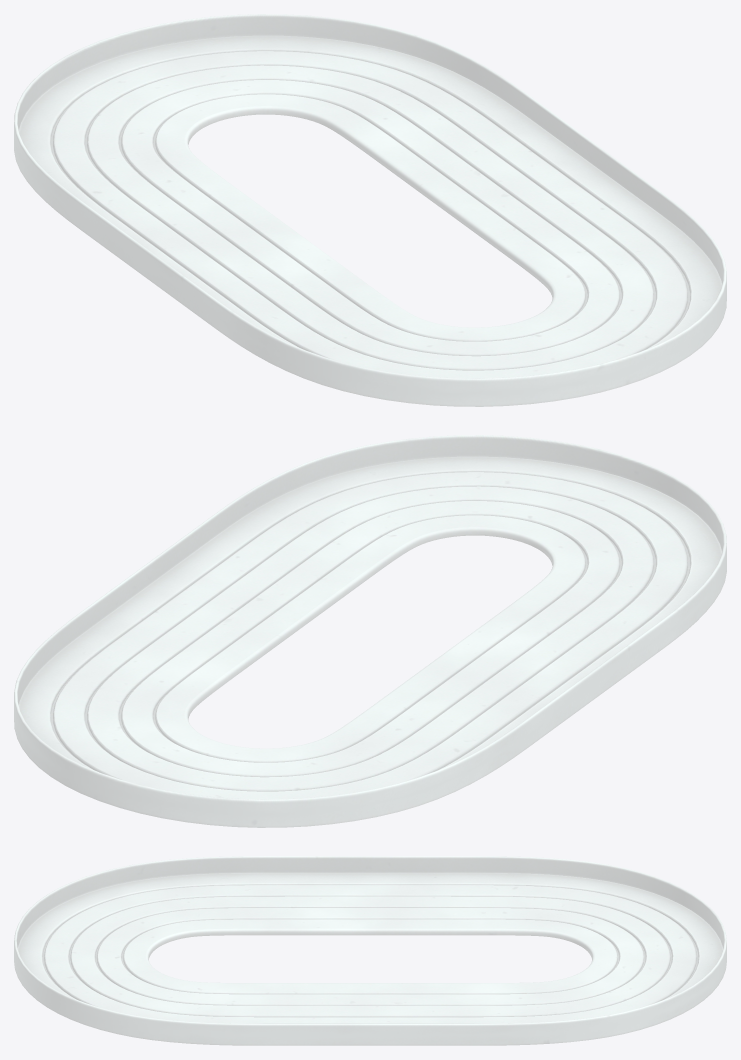
File: race_track.gltf
3 renders of one model, top to bottom at view 1: azimuth 30°, elevation 25°; view 2: azimuth 150°, elevation 25°; view 3: azimuth 270°, elevation 25°, orthographic. The views are drawn at different scales.
Visible parts, largest first — view 1: 10605_Slot_Car_Race_Track_v1_L3.001; view 2: 10605_Slot_Car_Race_Track_v1_L3.001; view 3: 10605_Slot_Car_Race_Track_v1_L3.001.
Boxes of the visible parts, box(x1,y1,x2,y2) form: 10605_Slot_Car_Race_Track_v1_L3.001: box(14, 14, 726, 406); 10605_Slot_Car_Race_Track_v1_L3.001: box(14, 435, 726, 827); 10605_Slot_Car_Race_Track_v1_L3.001: box(14, 856, 726, 1045).
Size of the model in its own units: 68 by 3.98 by 121.
1 material, 1 textured.
